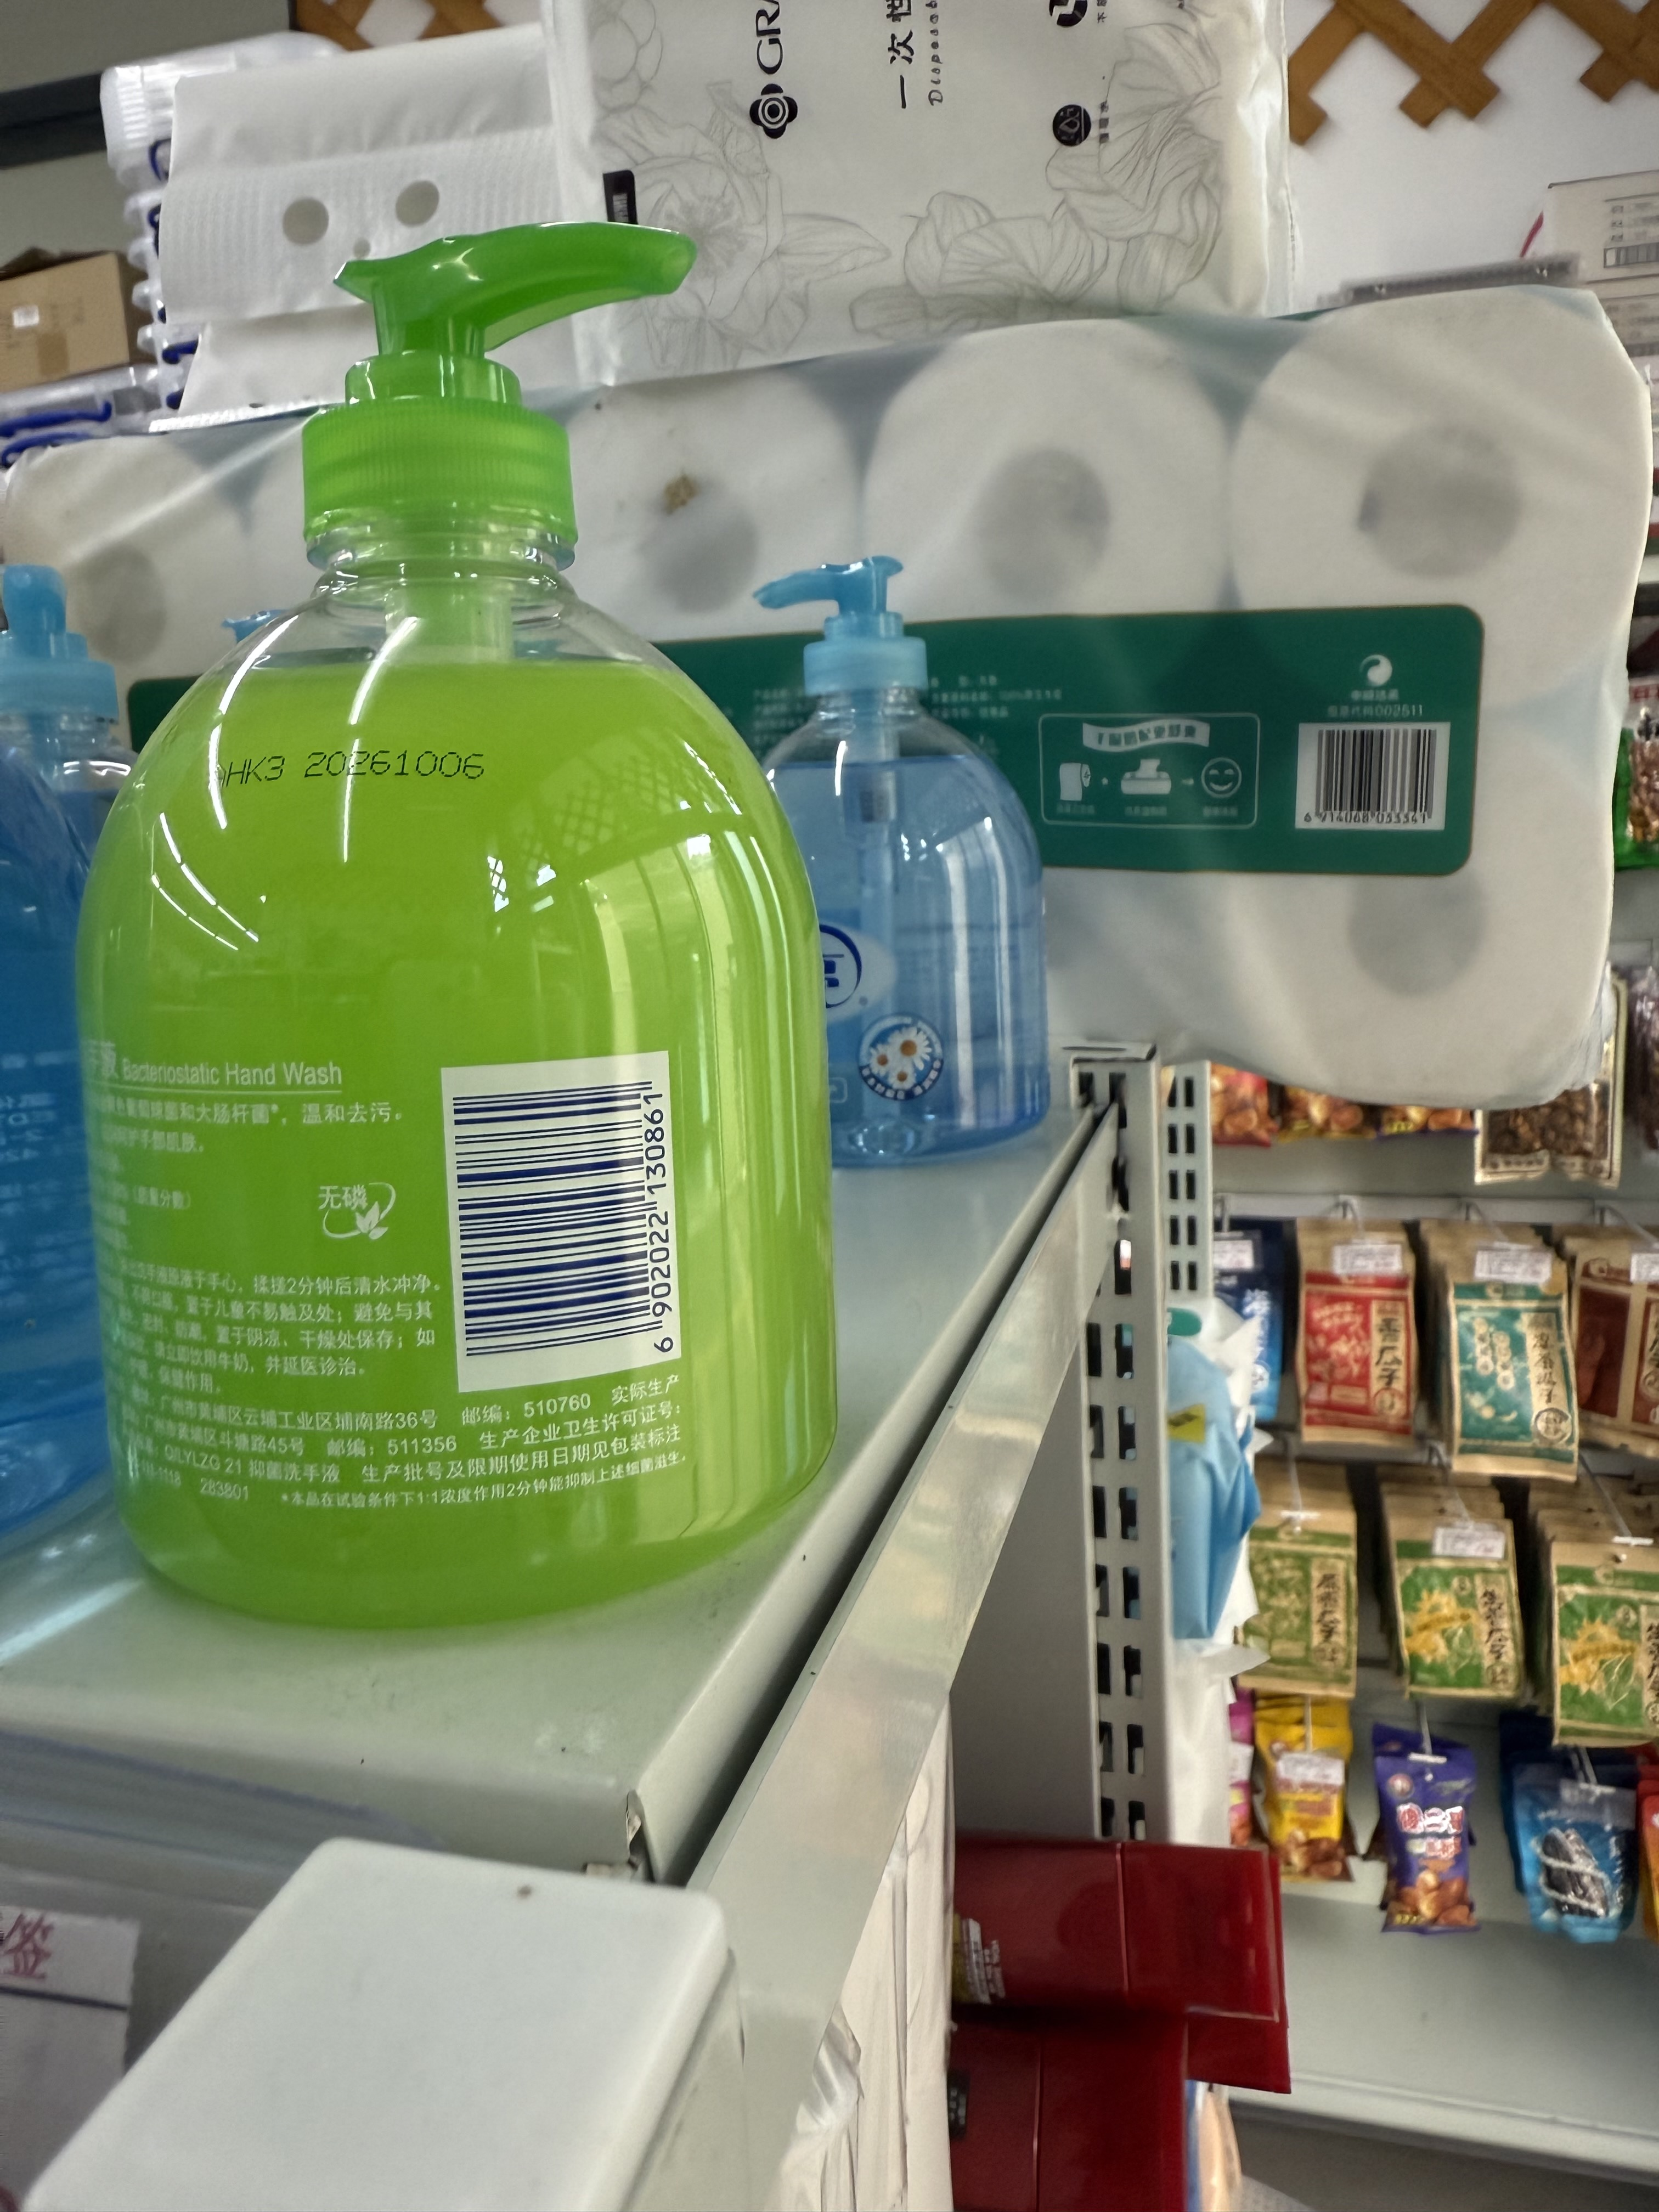bar: (443, 1071, 676, 1369)
